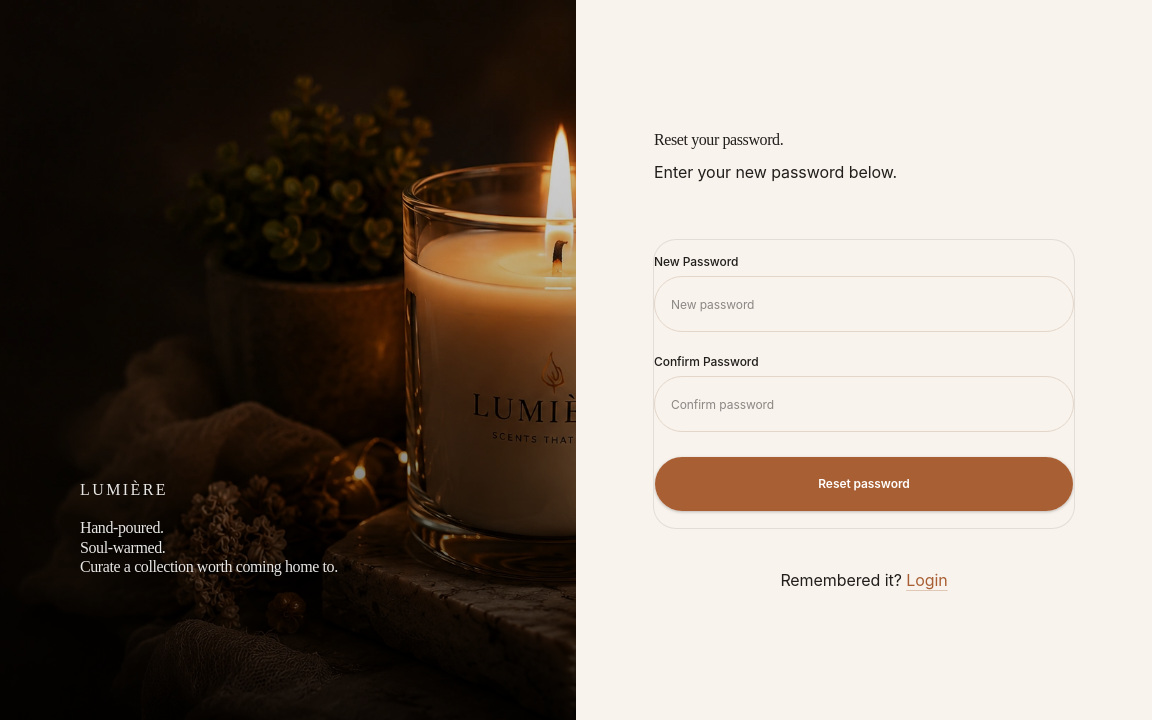
Test case: ResetPasswordPage › maps the backend message "Invalid reset link" to a root-level error reading "Invalid reset link"
Type "password123" into the password field with placeholder "New Password" at (864, 304), box x1=654 y1=276 x2=1074 y2=332
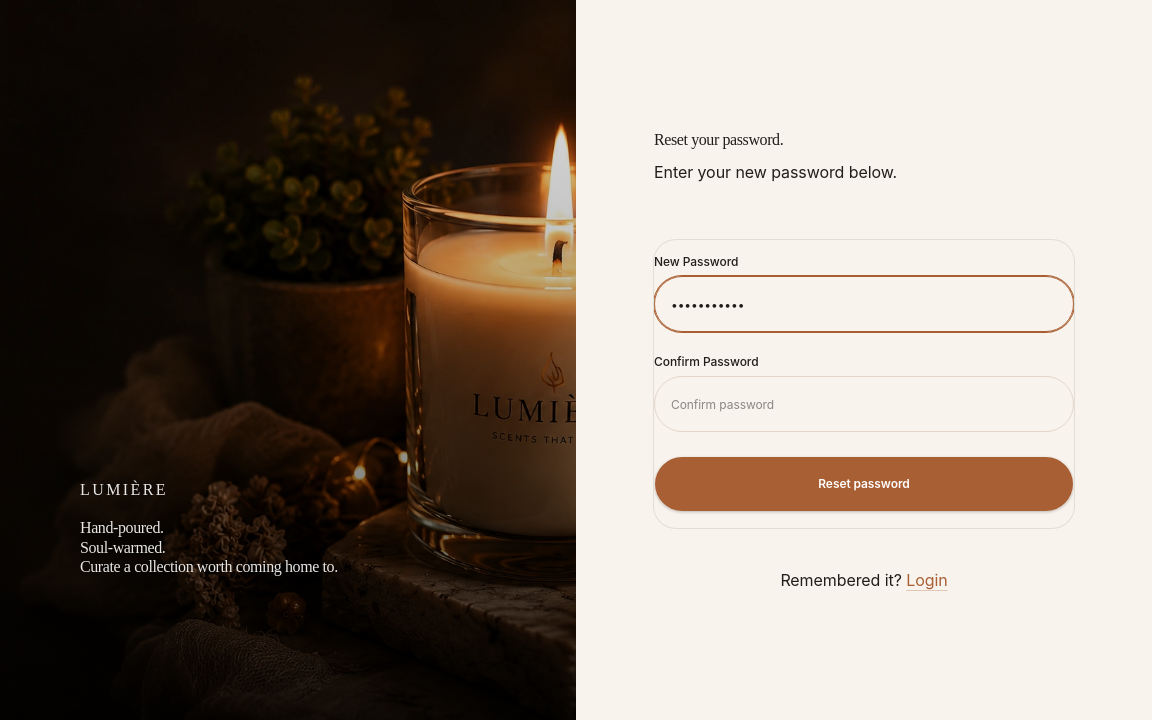
Type "password123" into the password field with placeholder "Confirm Password" at (864, 404), box x1=654 y1=376 x2=1074 y2=432
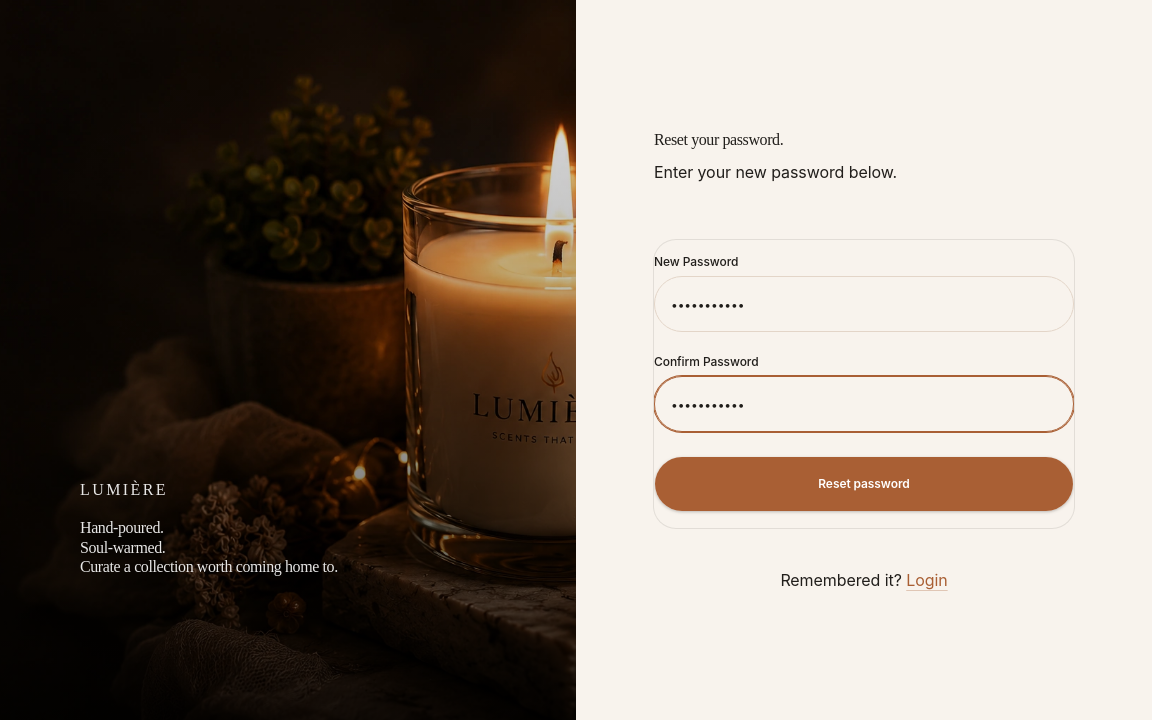
Click the button "Reset password" at (864, 484), box x1=654 y1=456 x2=1074 y2=512
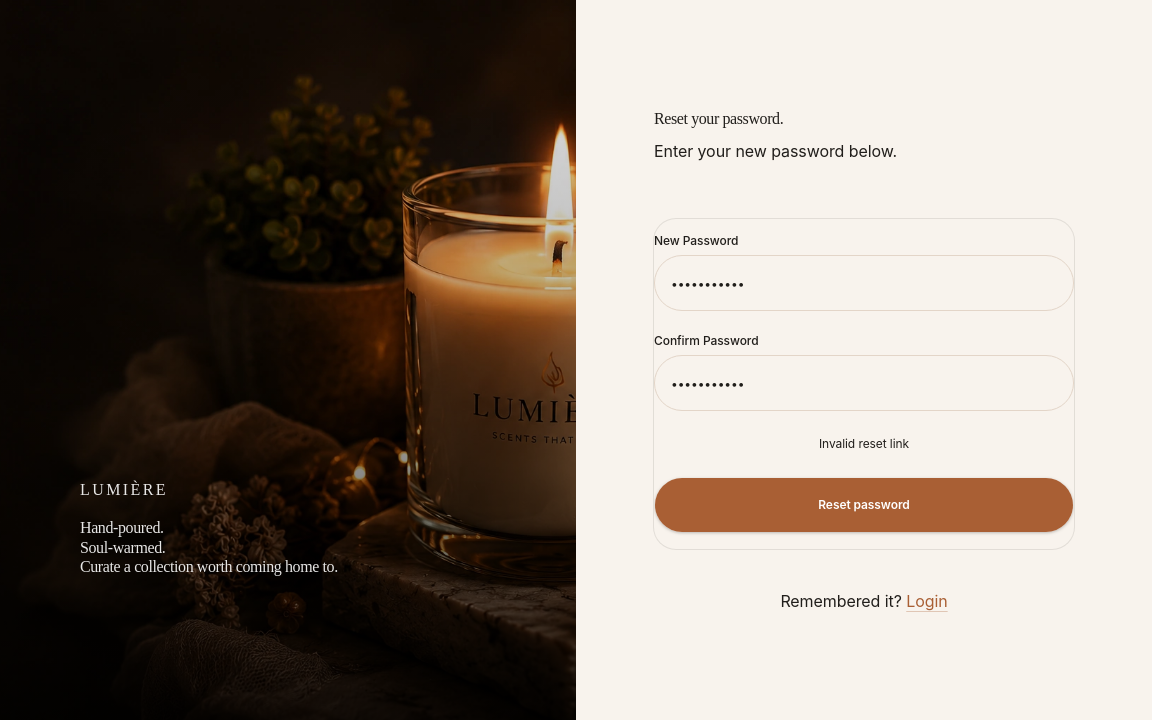
Expected: the text "Invalid reset link" is shown, x1=819 y1=436 x2=909 y2=451
